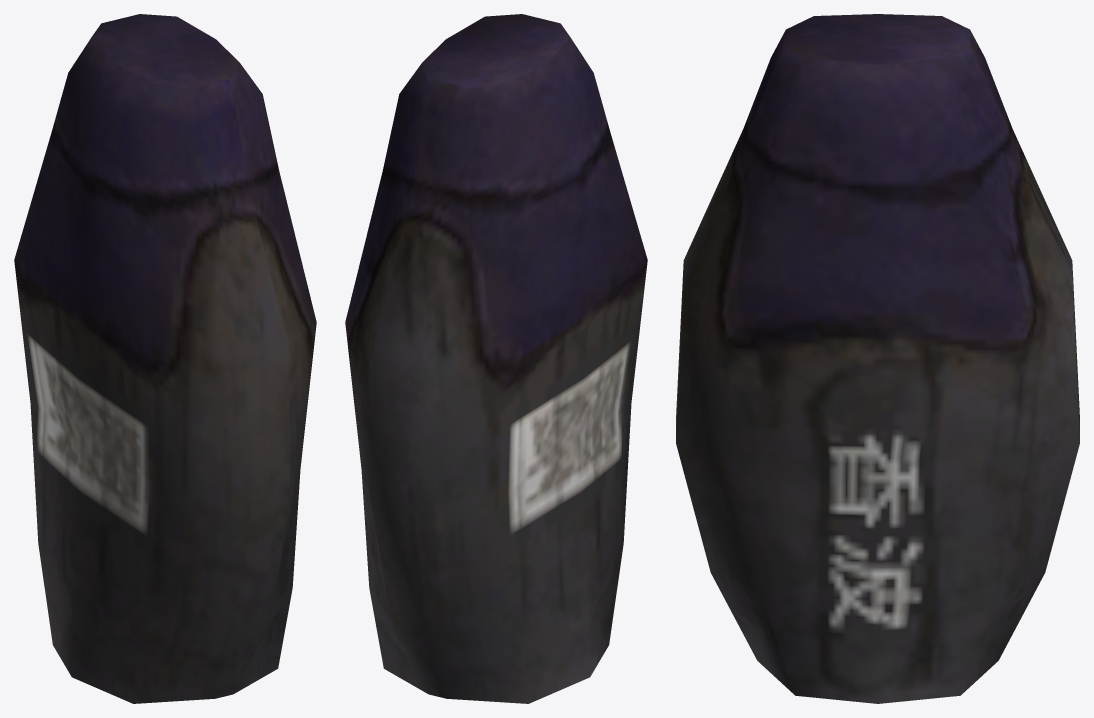
Rendered from shampoo_bottle_short.DAE.
The picture shows the model from 3 angles, left to right: view 1: azimuth 30°, elevation 25°; view 2: azimuth 150°, elevation 25°; view 3: azimuth 270°, elevation 25°; orthographic projection. The views are drawn at different scales.
Visible parts, largest first — view 1: Box002; view 2: Box002; view 3: Box002.
Part boxes in pixels (left/top/right/bottom): Box002: left=14, top=14, right=316, bottom=703; Box002: left=345, top=14, right=647, bottom=703; Box002: left=676, top=14, right=1079, bottom=703.
Size of the model in its own units: 0.0842 by 0.2605 by 0.1533.
